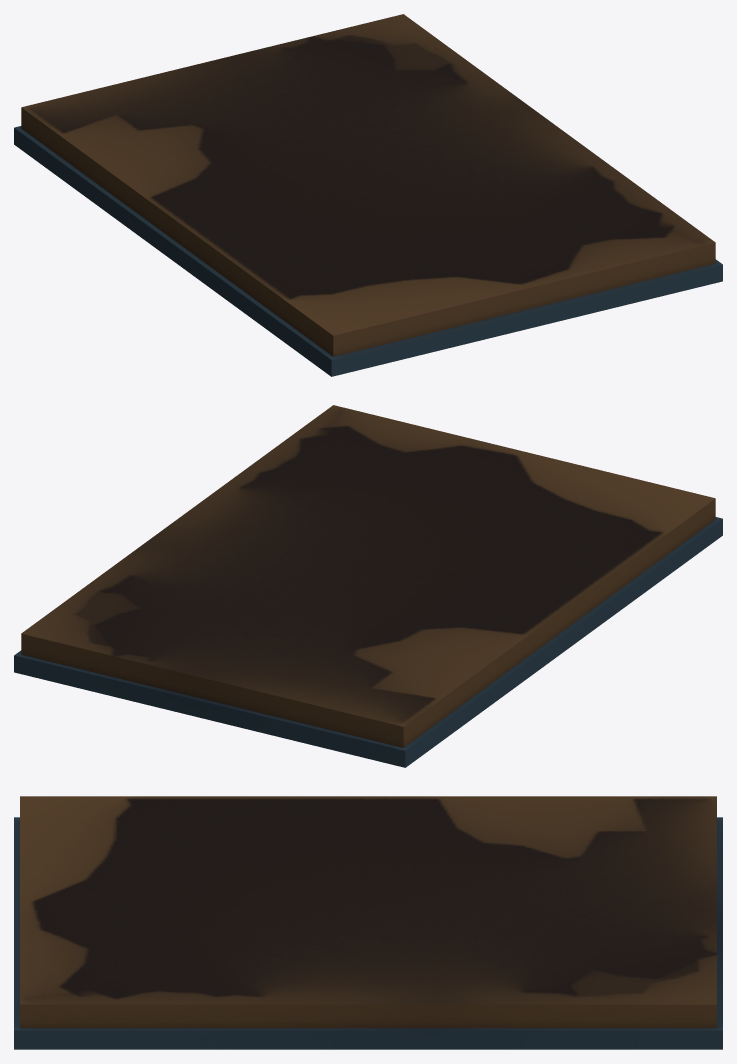
Rendered from Ground_02.FBX.
3 renders of one model, top to bottom at view 1: azimuth 30°, elevation 25°; view 2: azimuth 150°, elevation 25°; view 3: azimuth 270°, elevation 25°, orthographic. The views are drawn at different scales.
Parts seen in each view (by area): view 1: Ground_02; view 2: Ground_02; view 3: Ground_02.
Part boxes in pixels (x1,y1,x2,y2): Ground_02: (14, 14, 722, 376); Ground_02: (14, 405, 722, 767); Ground_02: (14, 796, 722, 1049).
Size of the model in its own units: 18.26 by 1.69 by 25.65.
